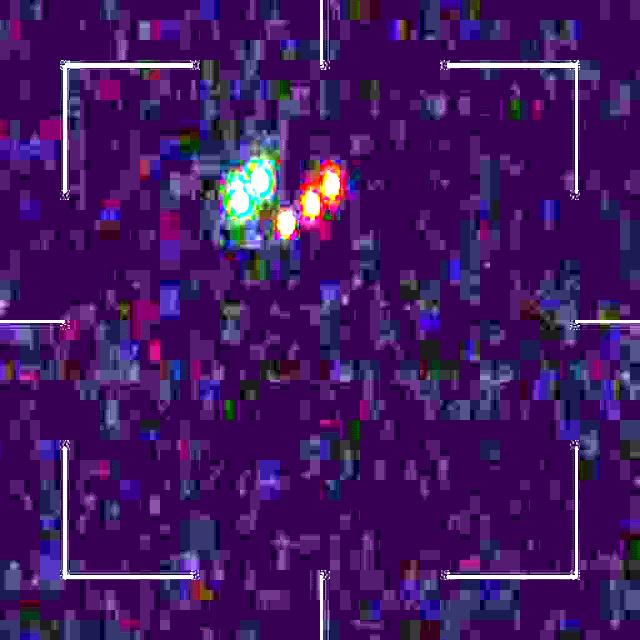bird: (230, 165, 344, 234)
